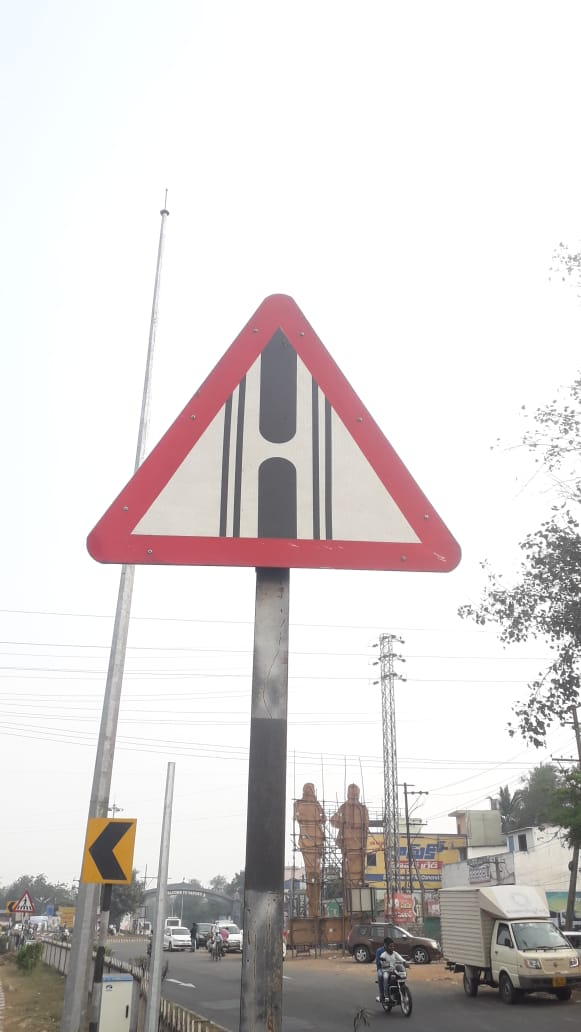highway go straight: (62, 275, 463, 604)
